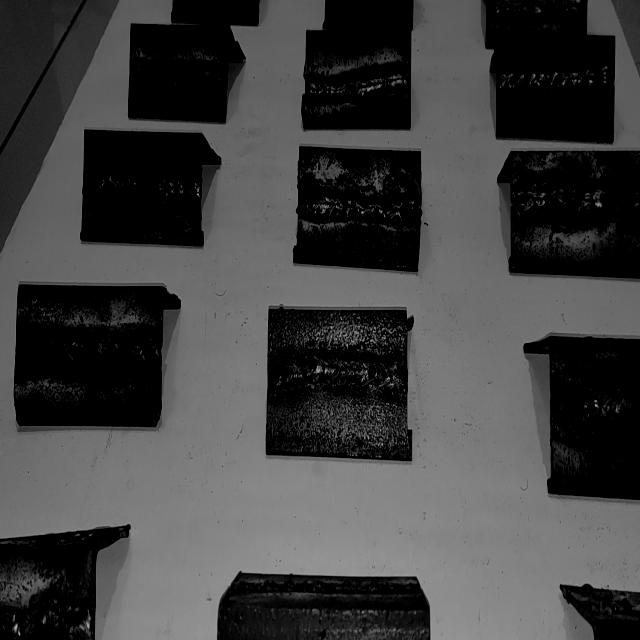Bad Weld: (512, 184, 640, 219), (298, 192, 420, 227), (552, 390, 640, 430), (306, 67, 408, 100), (84, 179, 200, 205), (131, 60, 229, 87)
Defect: (514, 175, 592, 227), (0, 597, 91, 640), (131, 54, 227, 89), (86, 179, 202, 204), (554, 380, 598, 439), (304, 71, 379, 102), (596, 176, 636, 228), (396, 186, 418, 234)
Good Weld: (269, 356, 406, 396), (20, 331, 161, 368), (498, 66, 614, 93), (490, 0, 585, 18)
